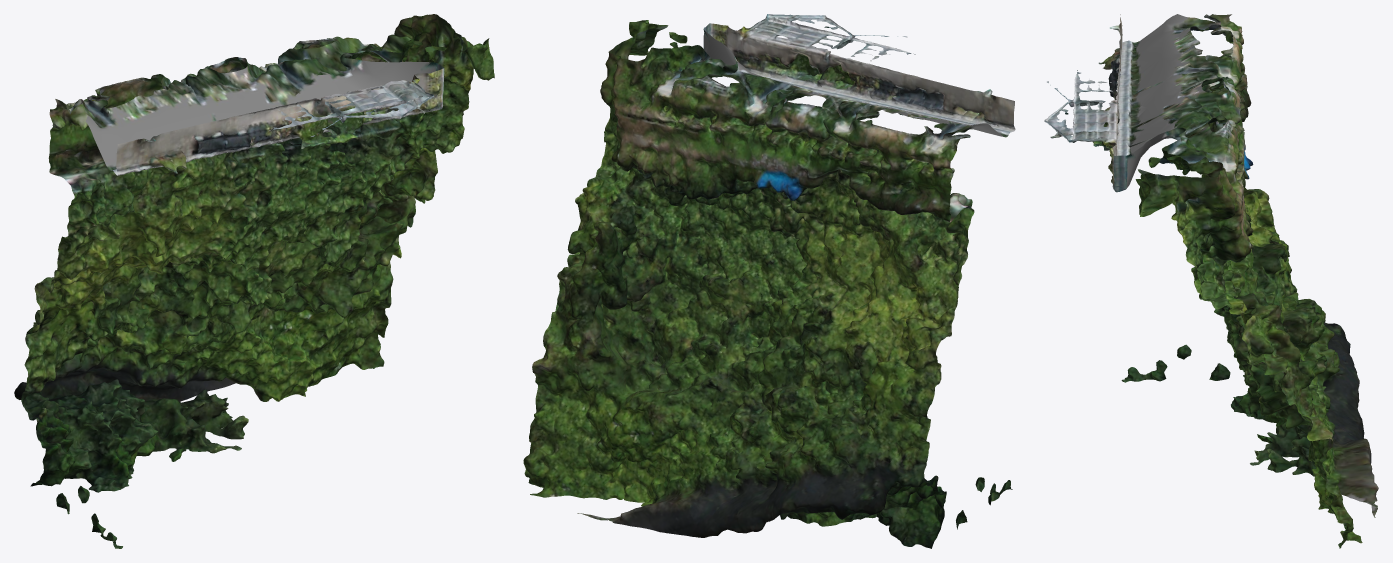
Rendered from Tile_+009_+005.fbx.
The picture shows the model from 3 angles, left to right: view 1: azimuth 30°, elevation 25°; view 2: azimuth 150°, elevation 25°; view 3: azimuth 270°, elevation 25°; orthographic projection. The views are drawn at different scales.
Visible parts, largest first — view 1: DefaultName; view 2: DefaultName; view 3: DefaultName.
Boxes of the visible parts, box(x1,y1,x2,y2) form: DefaultName: box(14, 14, 494, 548); DefaultName: box(523, 14, 1015, 548); DefaultName: box(1044, 14, 1378, 548).
Bounding box in the file's own units: 22.54 × 22.54 × 18.71.
